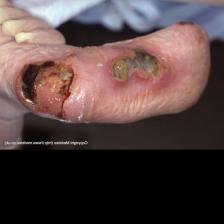Wound: (13, 56, 80, 121), (100, 53, 175, 86)
